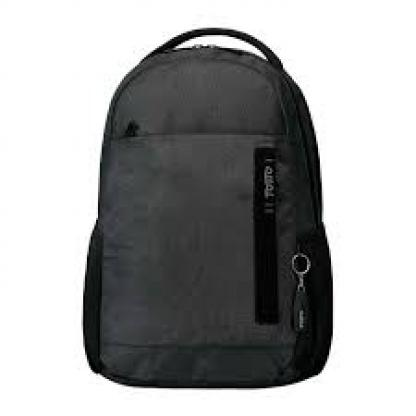morral: (61, 11, 346, 394)
